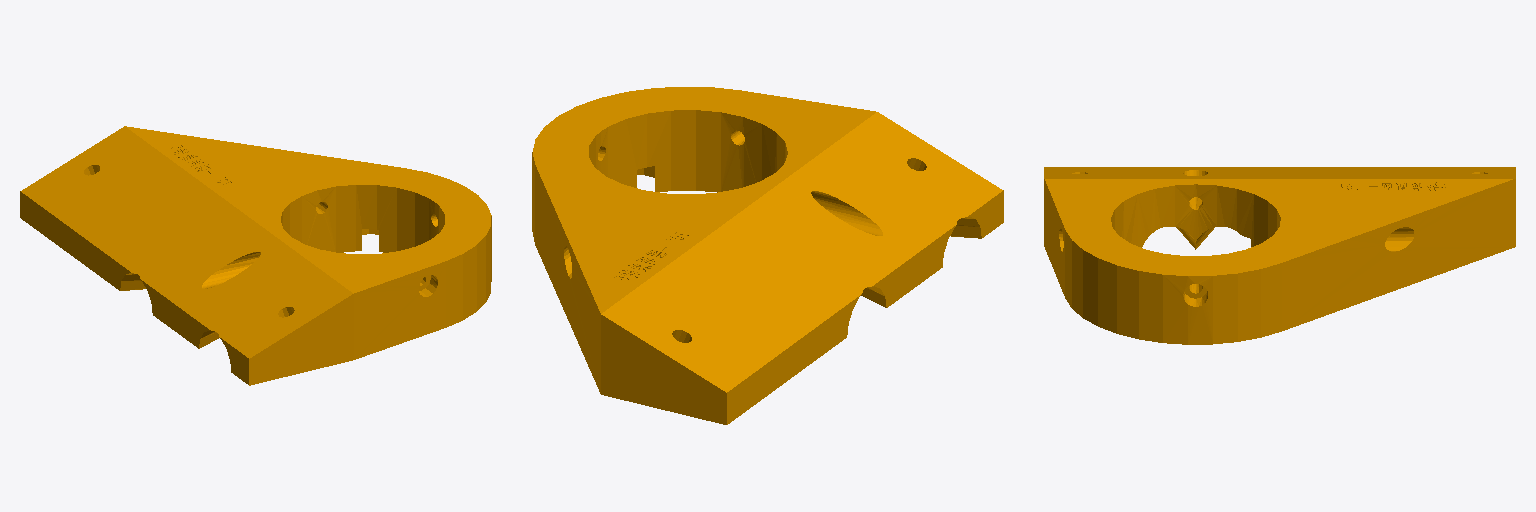
URDF robot description (gemini335l_wrist_left):
<?xml version="1.0"?>
<!-- Written by tools/assemble.py from gemini335l_wrist_left.xml: the same robot. Edit the MJCF, not this file. -->
<robot name="gemini335l_wrist_left">
  <link name="bracket_link">
    <inertial><origin xyz="-0.01704876602 0.01866011579 0.01138020965" rpy="-1.184728989 -1.522280791 3.021542869"/><mass value="0.028999999"/><inertia ixx="4.099697872e-05" ixy="0" ixz="0" iyy="2.966360178e-05" iyz="0" izz="1.263849606e-05"/></inertial>
    <visual><origin xyz="0 0 0" rpy="0 0 0"/><geometry><mesh filename="meshes/visual/left_bracket_link_vis.obj"/></geometry></visual>
    <collision><origin xyz="0 0 0" rpy="0 0 0"/><geometry><mesh filename="meshes/collision/left_bracket_link_col.obj"/></geometry></collision>
  </link>
  <link name="camera_mount">
    <inertial><origin xyz="0 0 0" rpy="0 0 0"/><mass value="1e-09"/><inertia ixx="1e-06" ixy="0" ixz="0" iyy="1e-06" iyz="0" izz="1e-06"/></inertial>
  </link>
  <joint name="camera_mount_fixed" type="fixed"><parent link="bracket_link"/><child link="camera_mount"/><origin xyz="-0.04543449102 -0.02750000073 0.03740745264" rpy="0 -1.221730476 -3.141592654"/></joint>
</robot>

--- Render facts (derived) ---
Views: 3 orthographic renders of the robot side by side, from view 1: azimuth 30°, elevation 25°; view 2: azimuth 150°, elevation 25°; view 3: azimuth 270°, elevation 25°.
Model gemini335l_wrist_left with 2 links and 1 joints (1 fixed), rooted at bracket_link, posed every joint at zero.
Visible links, largest first — view 1: bracket_link; view 2: bracket_link; view 3: bracket_link.
Boxes of the visible links, x1,y1,x2,y2 form: bracket_link: (20,126,491,385); bracket_link: (532,87,1003,424); bracket_link: (1044,167,1515,344).
Bounding box of the posed robot: 0.0845 × 0.112 × 0.018 m (x, y, z).
1 mesh visuals loaded from 1 distinct referenced files (1 OBJ).
